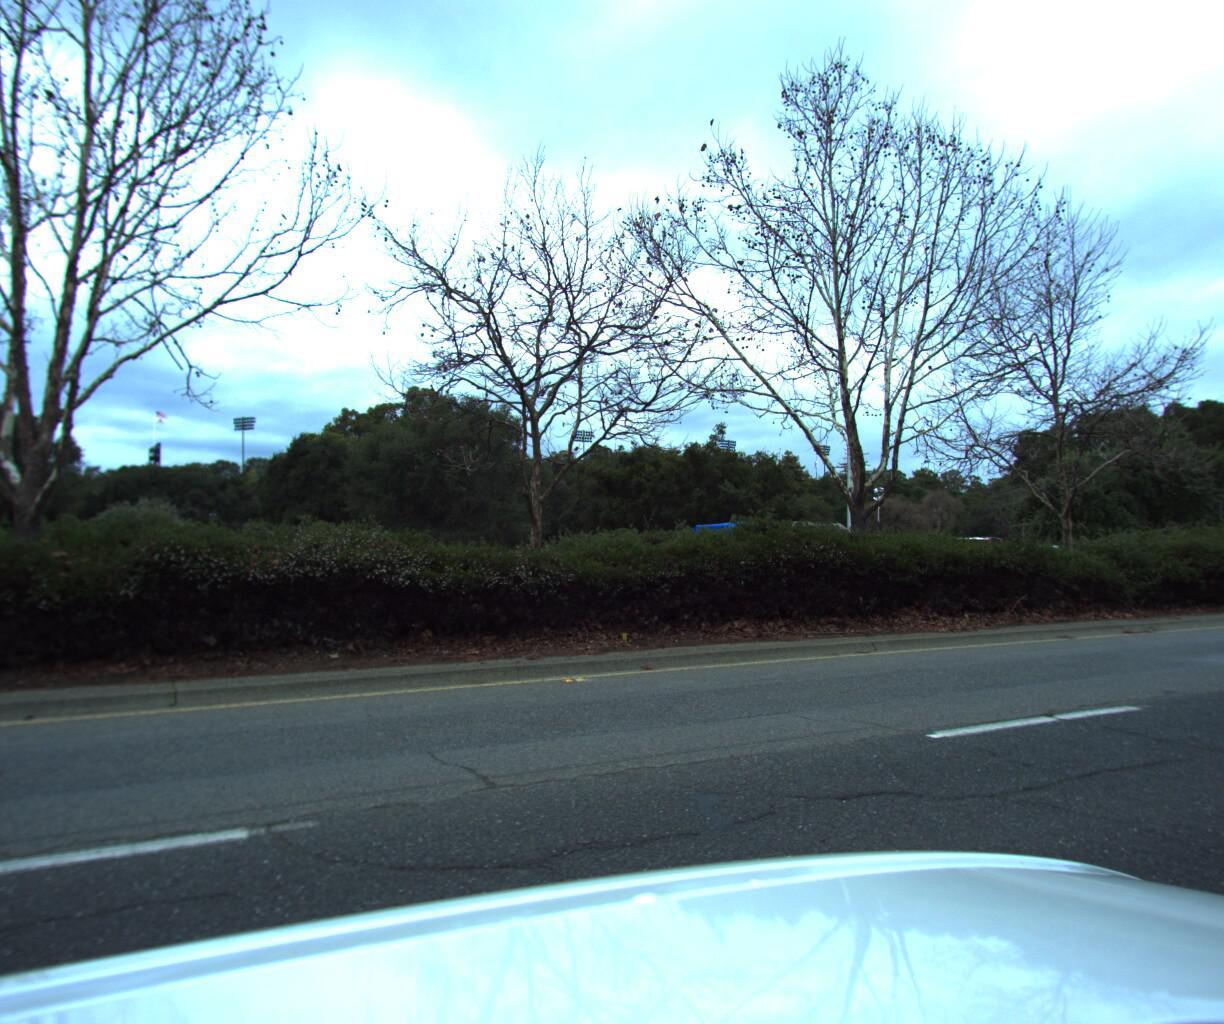other_vehicle: (676, 513, 864, 607)
